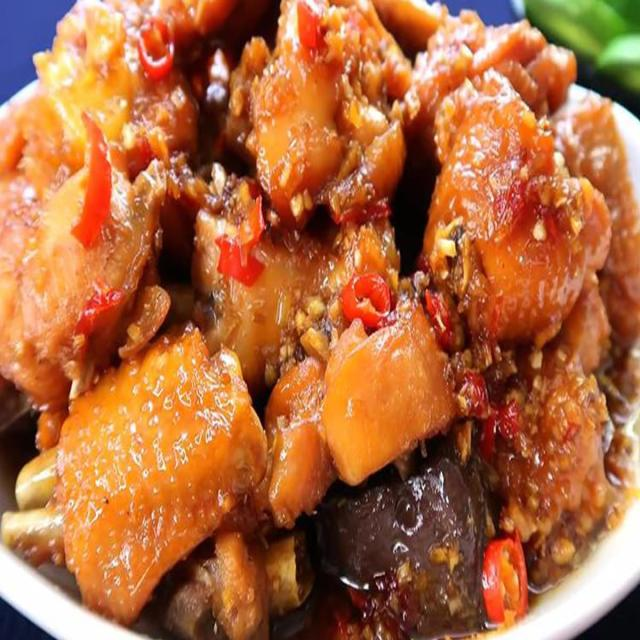ga kho: (0, 0, 639, 639)
